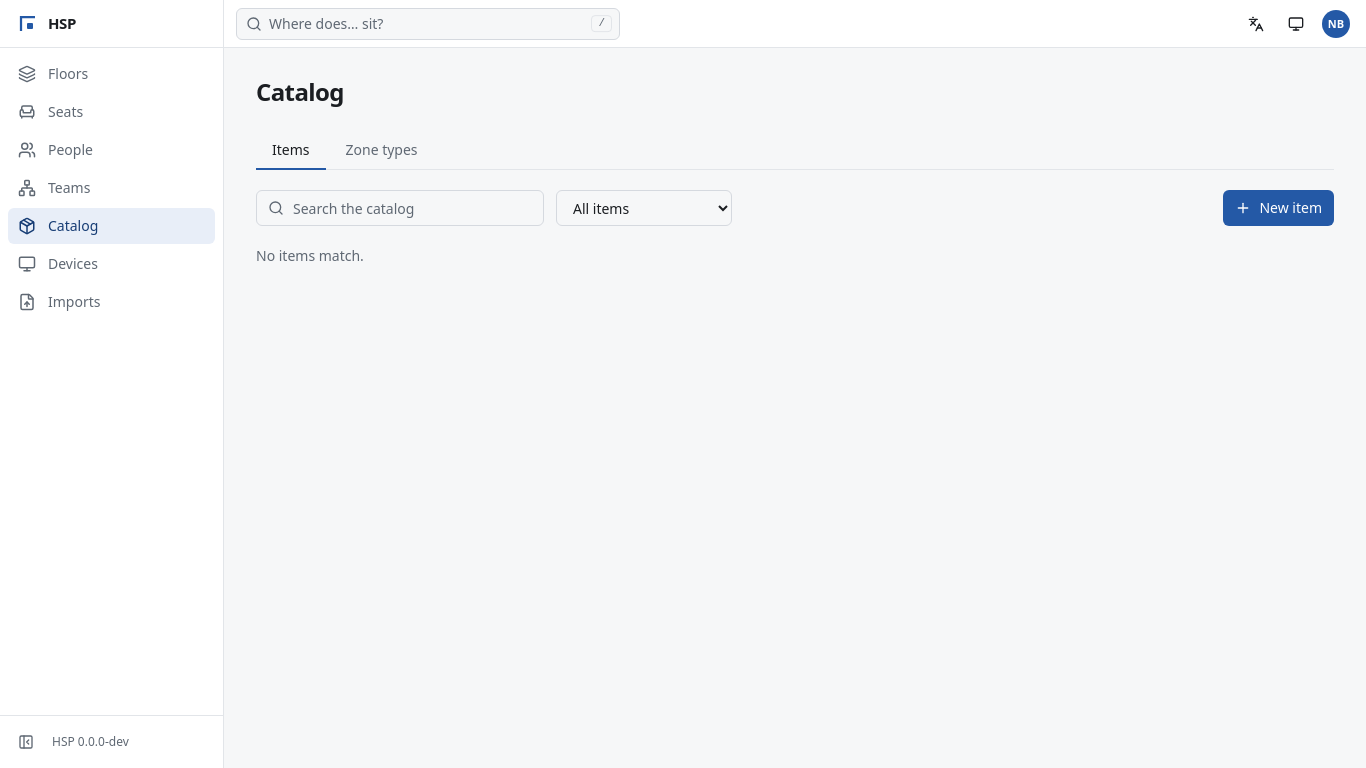
Test: zone types (docs/0095) › are a second tab of the catalog, sorted by name
The image size is (1366, 768).
Step 1. Click the tab "Zone types" → (382, 151), box [330, 132, 434, 170]
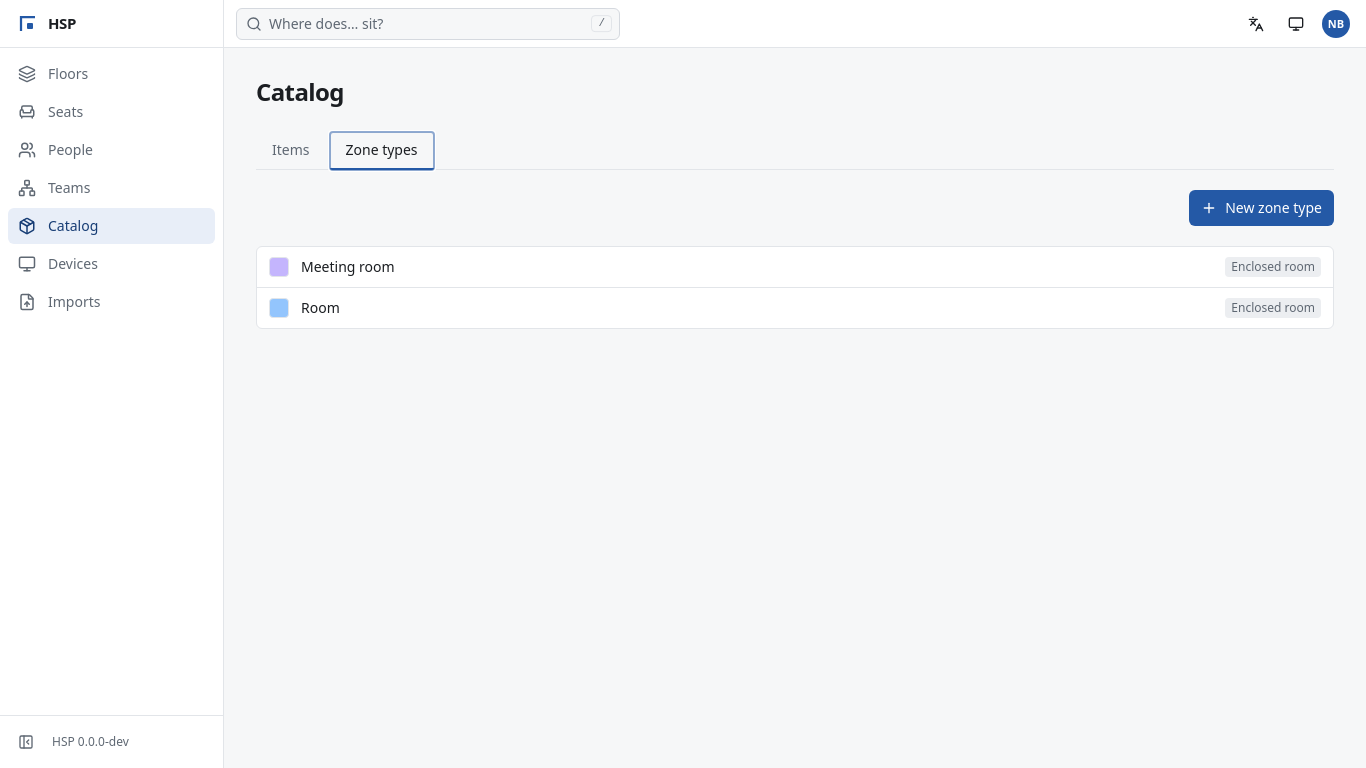
Now the panel shows "Enclosed room", box [1231, 258, 1315, 275]
